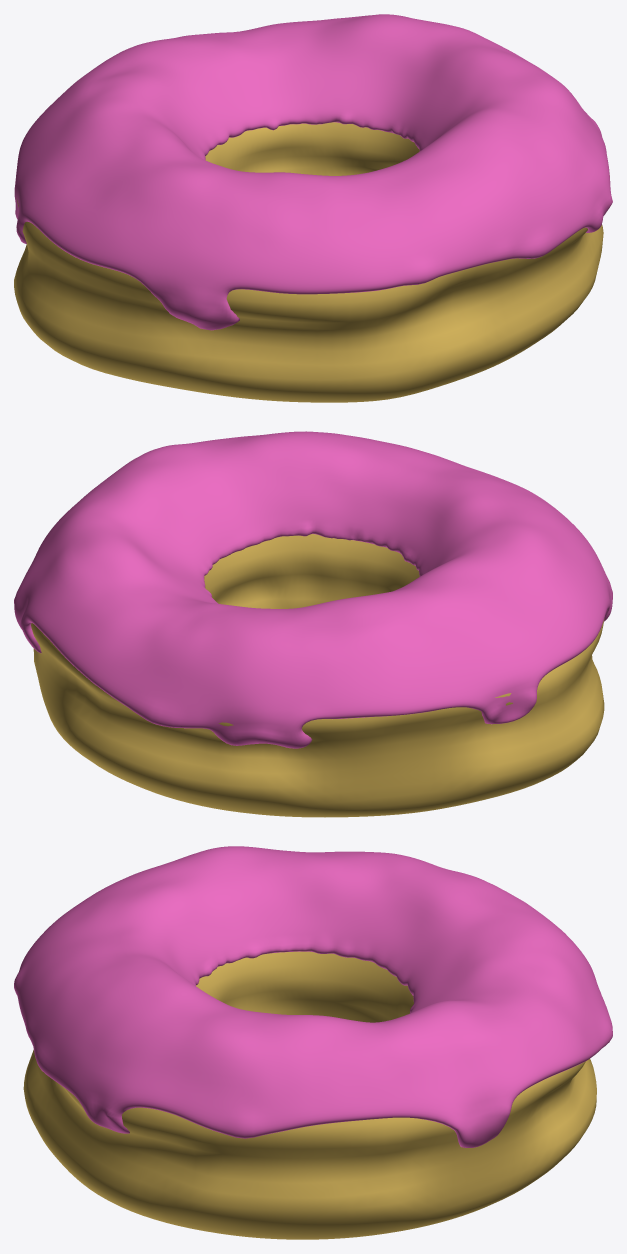
File: donutLevel1.glb
The picture shows the model from 3 angles, top to bottom: view 1: azimuth 30°, elevation 25°; view 2: azimuth 150°, elevation 25°; view 3: azimuth 270°, elevation 25°; orthographic projection. The views are drawn at different scales.
Visible parts, largest first — view 1: Icing, Donut; view 2: Icing, Donut; view 3: Icing, Donut.
Part boxes in pixels (x1,y1,x2,y2): Icing: [14, 14, 612, 330]; Donut: [14, 122, 609, 402]; Icing: [14, 431, 612, 748]; Donut: [31, 534, 604, 817]; Icing: [14, 846, 612, 1147]; Donut: [23, 951, 596, 1239].
Size of what is drawn, in the model's own units: 0.1483 by 0.0569 by 0.1431.
